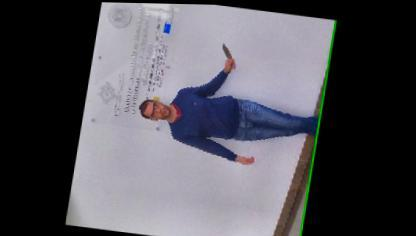knife: (217, 39, 240, 68)
